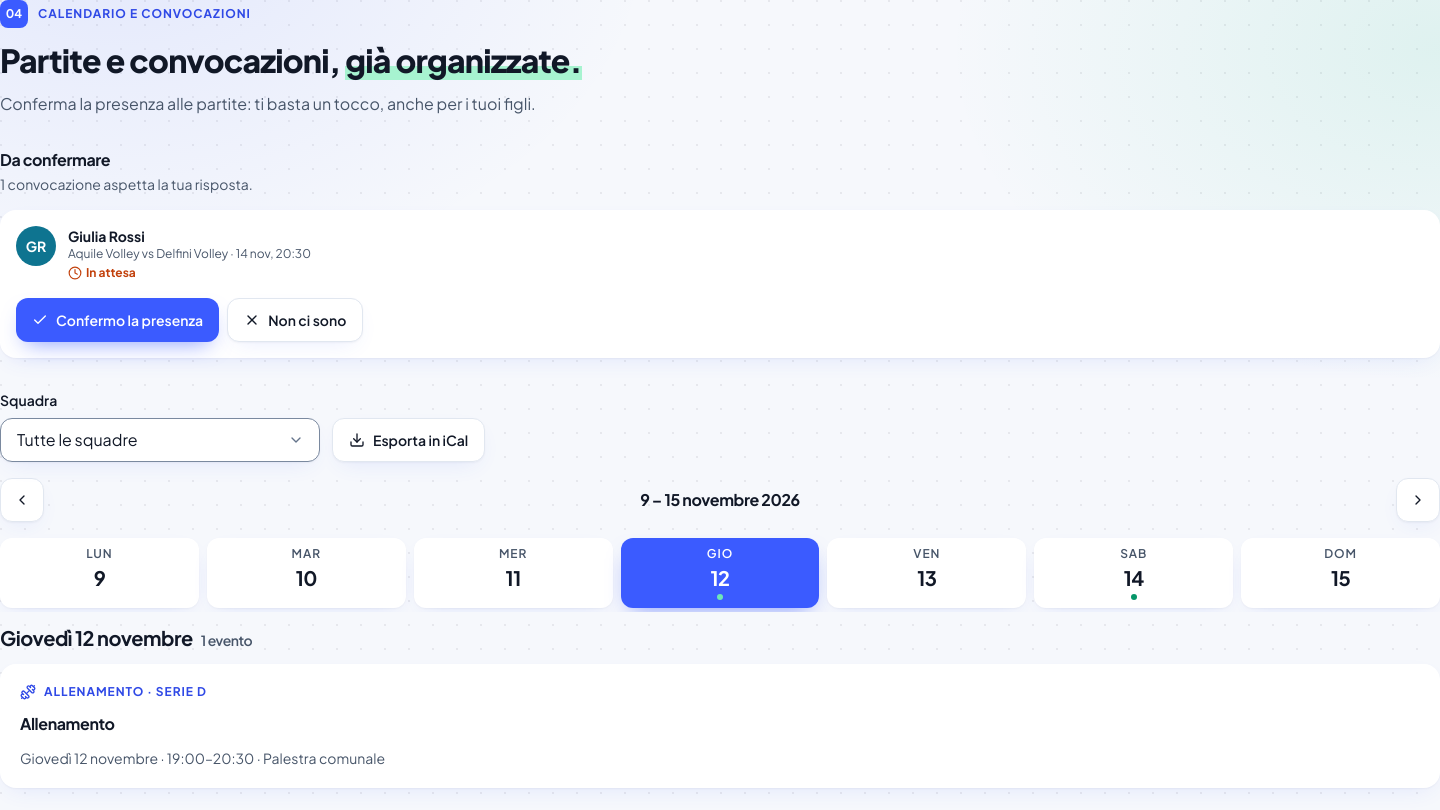
it: convocations of an athlete or a guardian › explains a refusal of the server next to the buttons
This screenshot has width=1440, height=810.
Click the button with aria-label "Confermo la presenza di Giulia Rossi" at (118, 320), box [16, 298, 219, 342]
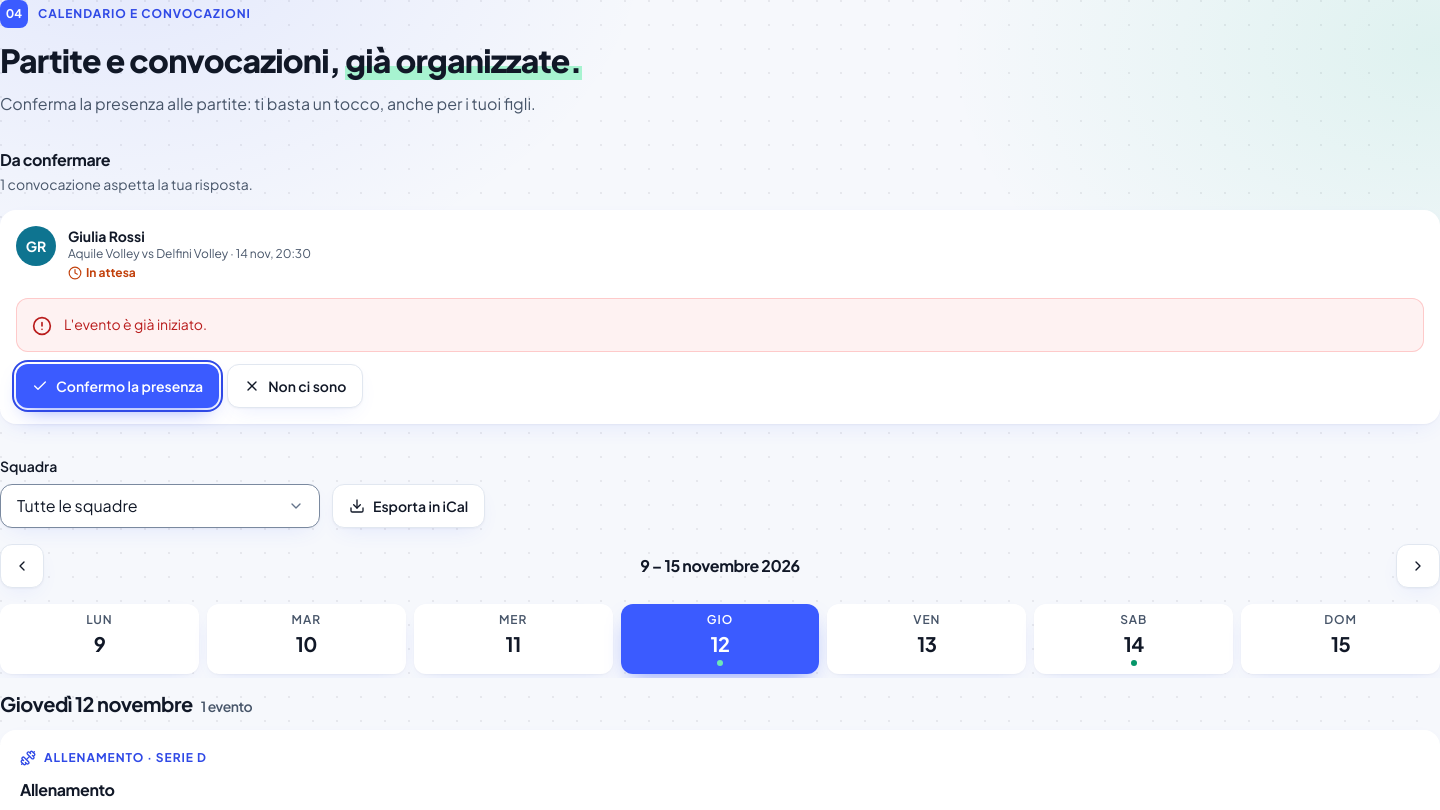
Expected: the text "L'evento è già iniziato." is shown, [64, 314, 207, 334]
